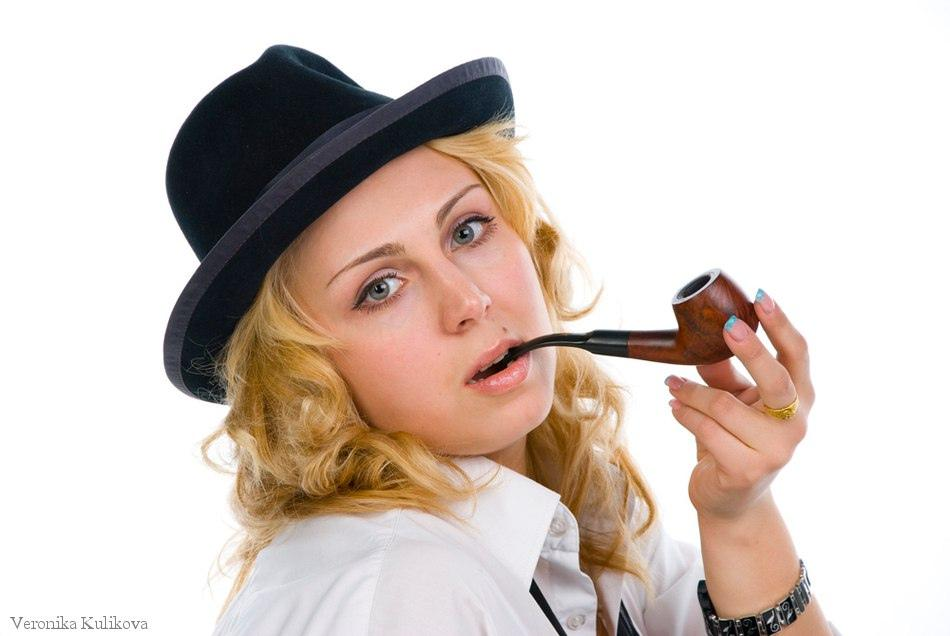trubka: (503, 267, 759, 365)
